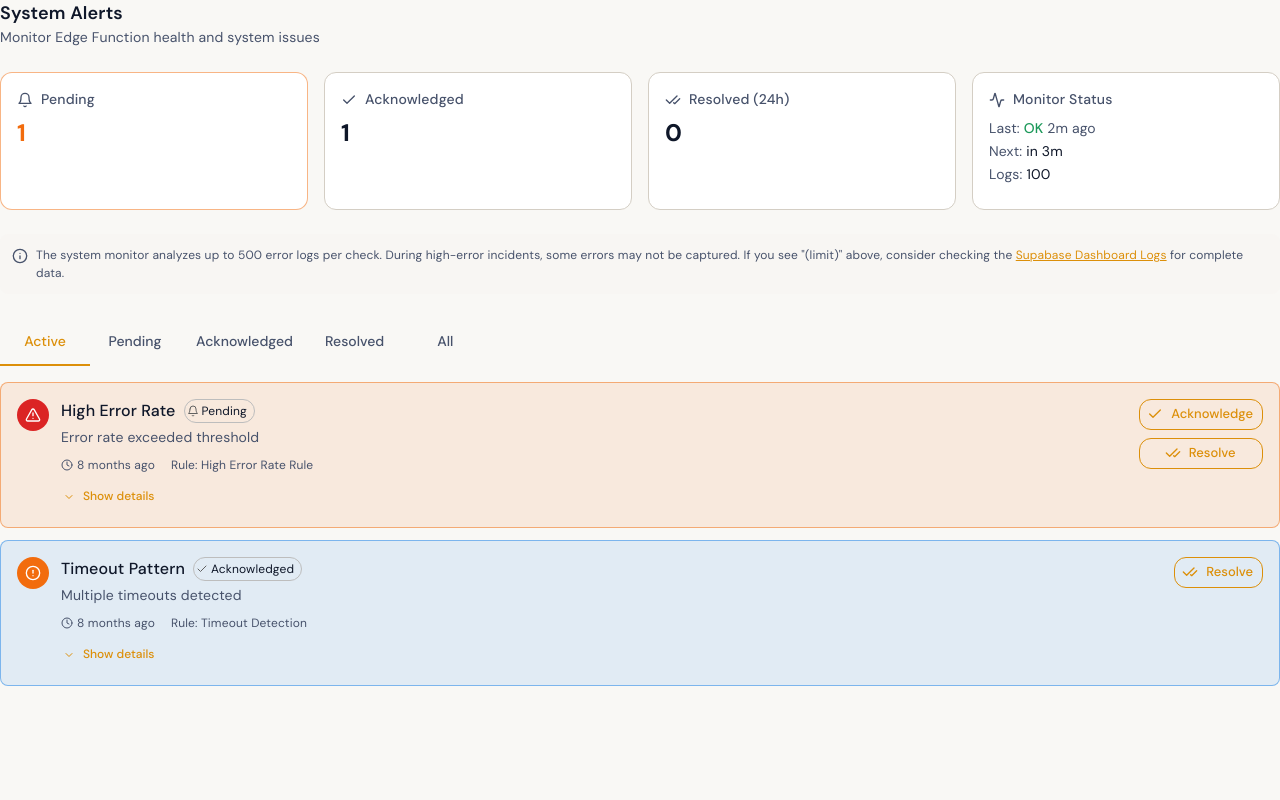
Scenario: AdminAlerts › Alert Details › should expand details when Show details clicked
The image size is (1280, 800).
Get the first "Show details" button (there may be multiple)
Click the button "Show details" below "High Error Rate Rule": (110, 496) [61, 482, 158, 511]
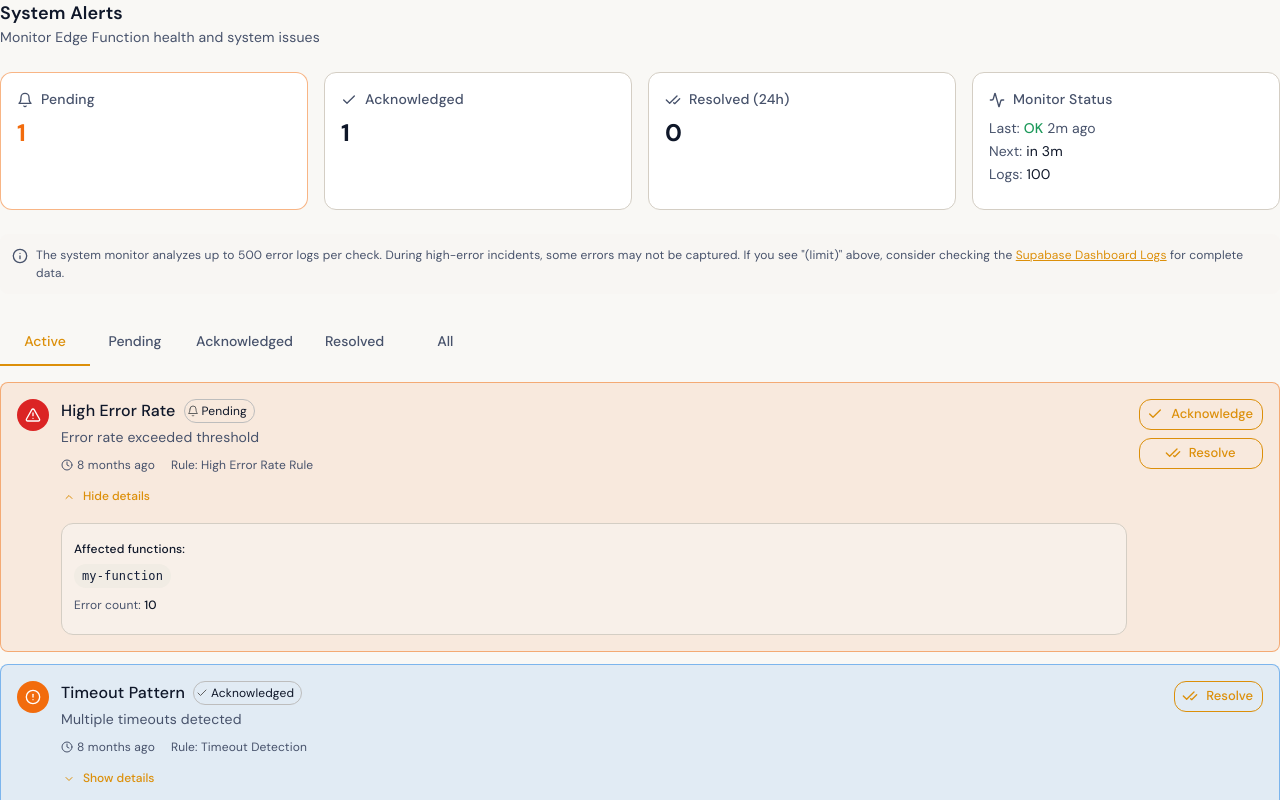
Expected: the text "Affected functions:" is shown, [74, 541, 185, 557]
Expected: the text "my-function" is shown, [82, 569, 163, 583]
